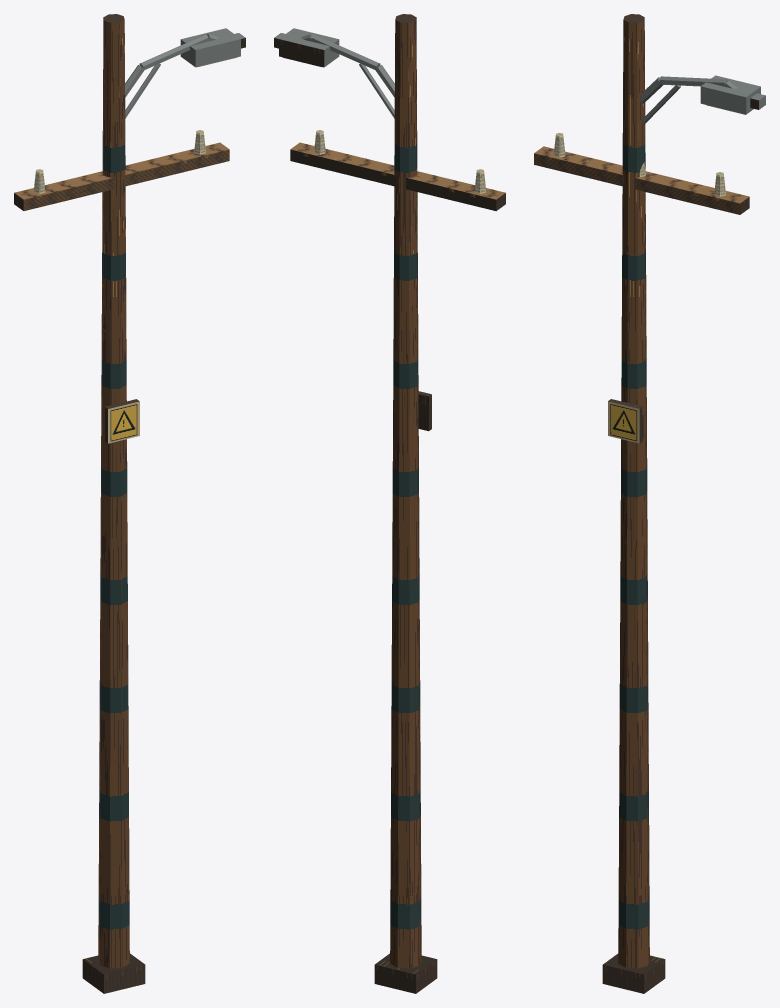
File: poste_luz_madera.glb
The picture shows the model from 3 angles, left to right: view 1: azimuth 30°, elevation 25°; view 2: azimuth 150°, elevation 25°; view 3: azimuth 330°, elevation 25°; orthographic projection.
Visible parts, largest first — view 1: FH_PROP; view 2: FH_PROP; view 3: FH_PROP.
Part boxes in pixels (x1=…): FH_PROP: x1=14, y1=14, x2=245, y2=993; FH_PROP: x1=274, y1=14, x2=505, y2=993; FH_PROP: x1=534, y1=14, x2=765, y2=993.
Bounding box in the file's own units: 1.48 × 6.1 × 0.2438.
Materials: 1 (1 with a texture image).
